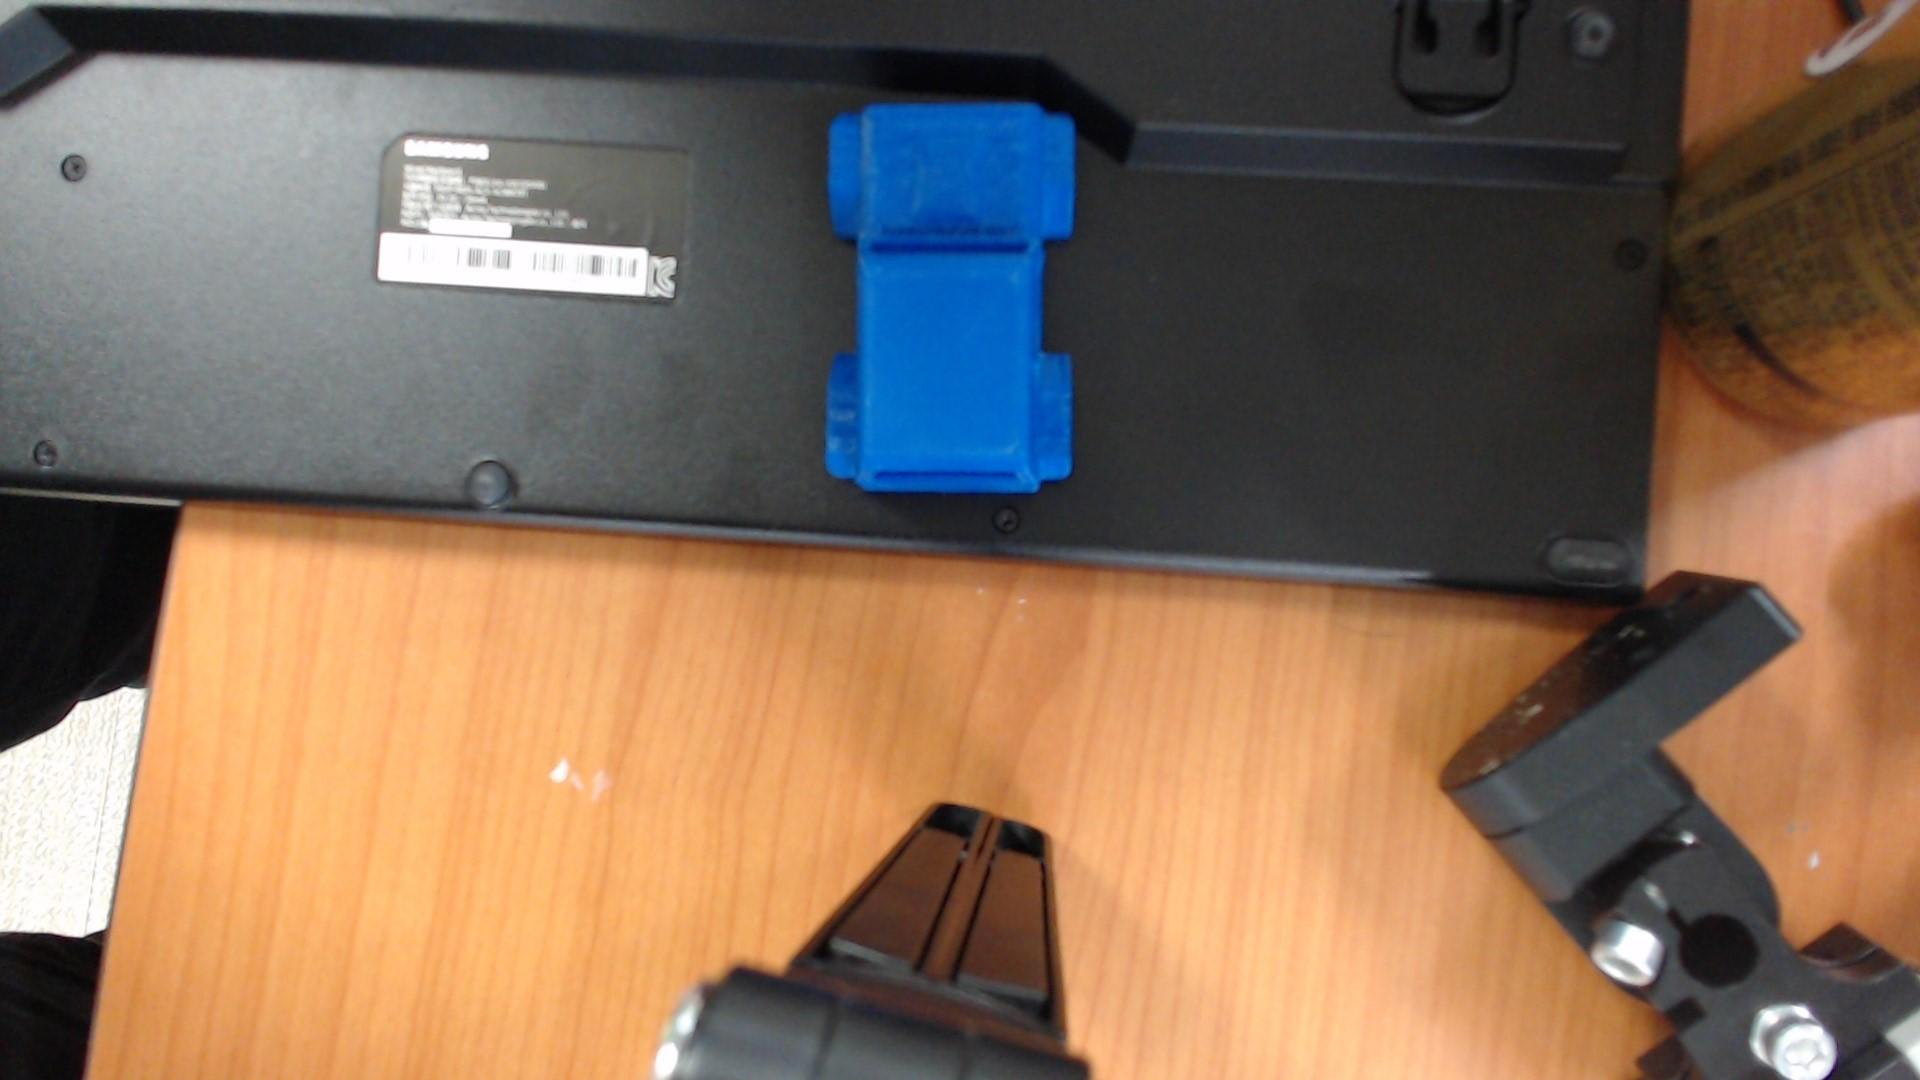Upper_ng: (825, 104, 1076, 495)
